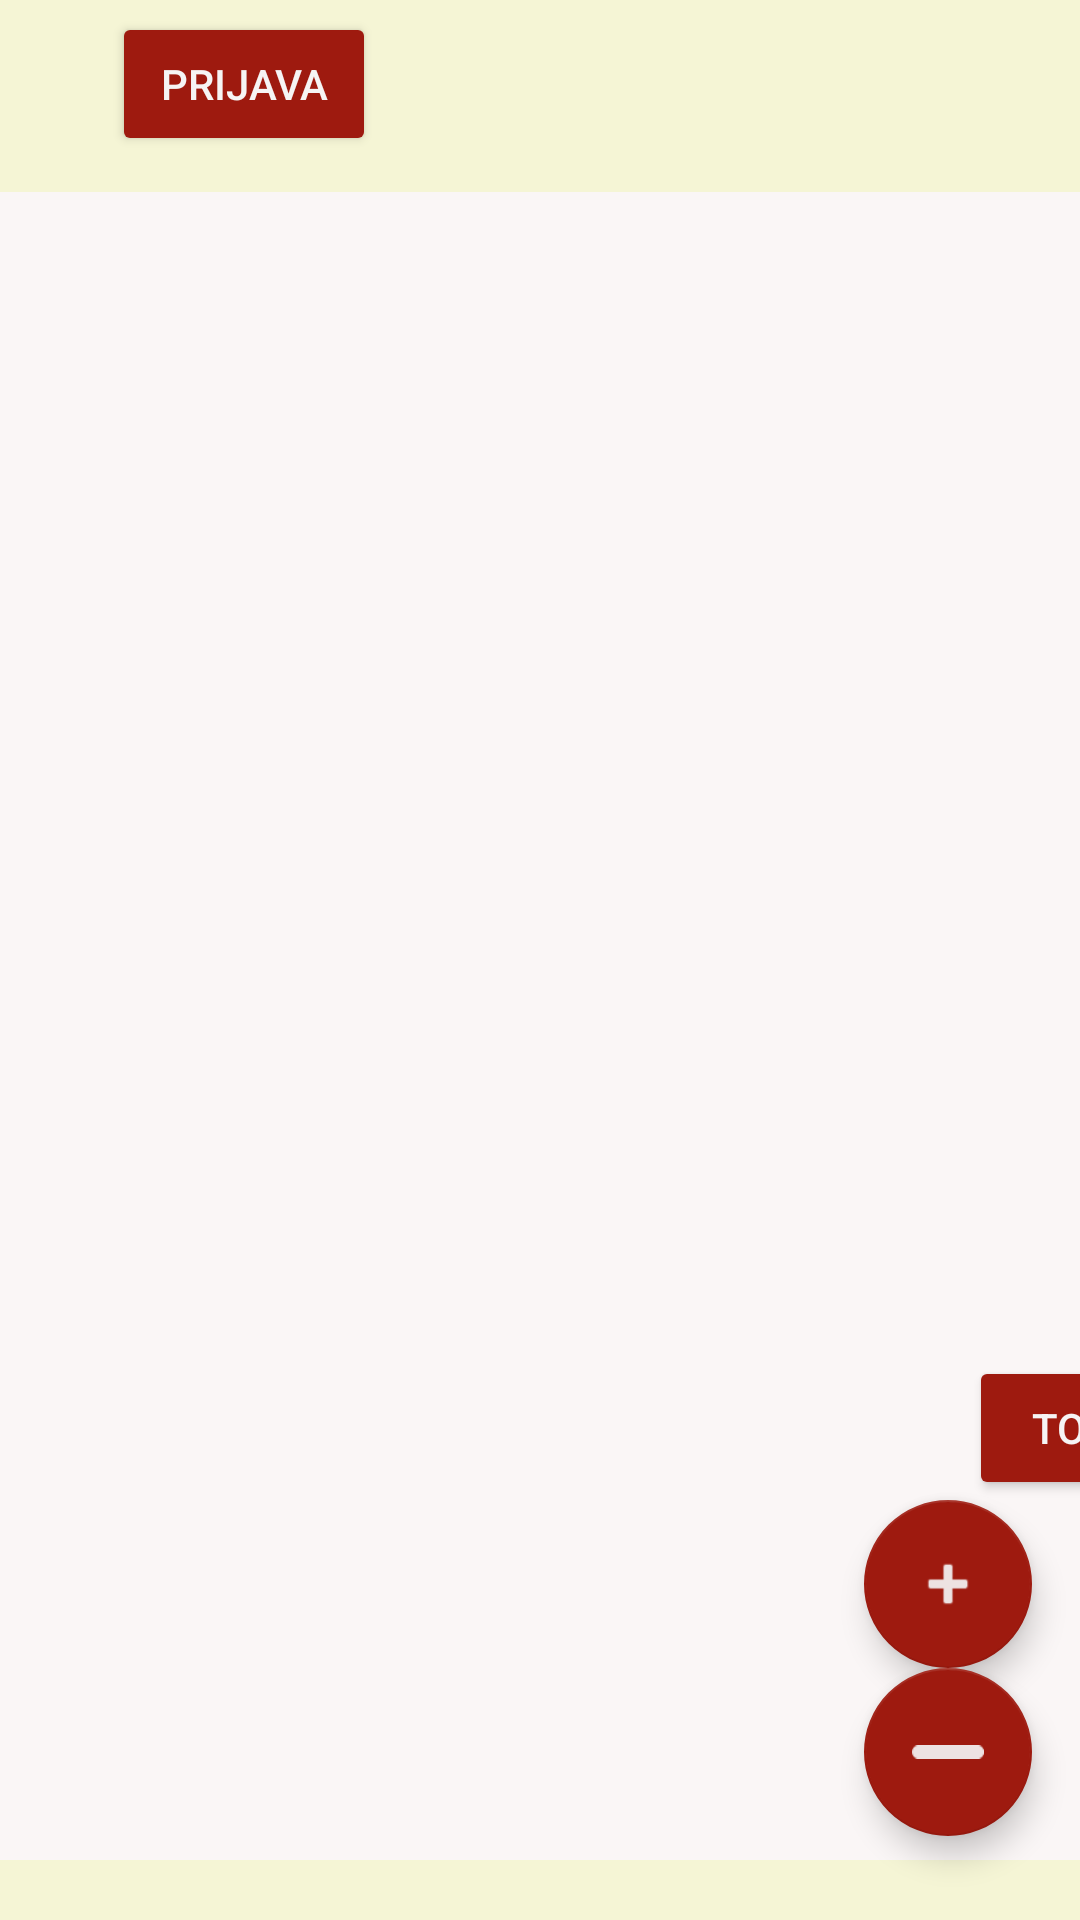

Icons on this 1080w x 1920h Android screen, each with its box as (x1, y1, x2, y2):
add: (864, 1500, 1032, 1668)
